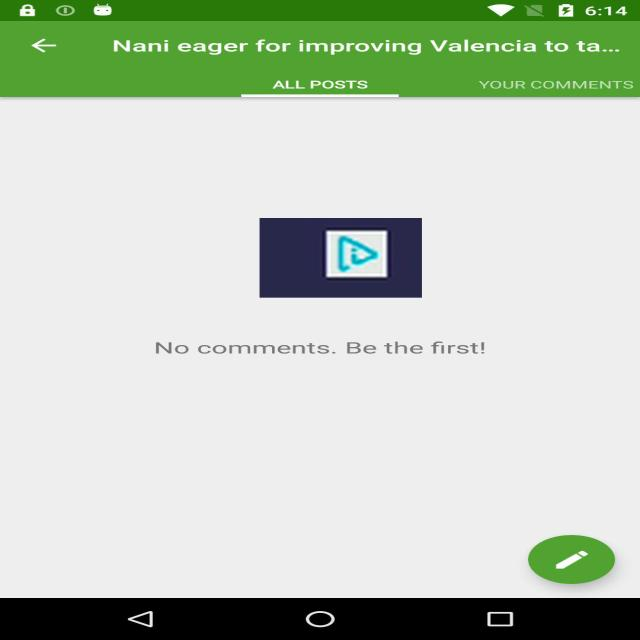sneaking: (259, 218, 422, 298)
